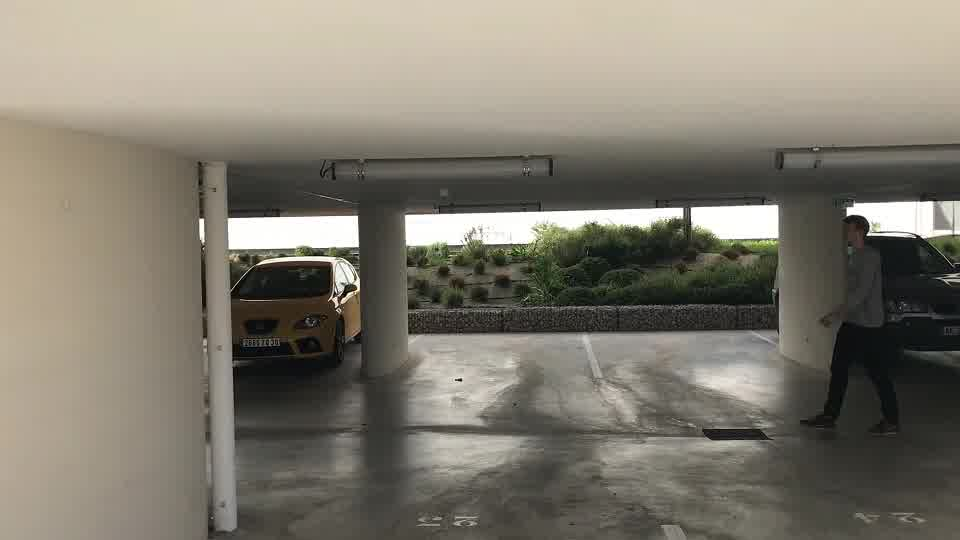jugador: (798, 211, 902, 441)
